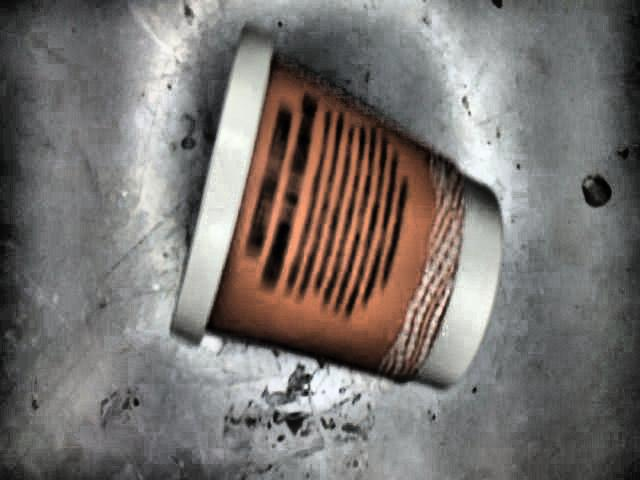Paper: (171, 25, 503, 394)
